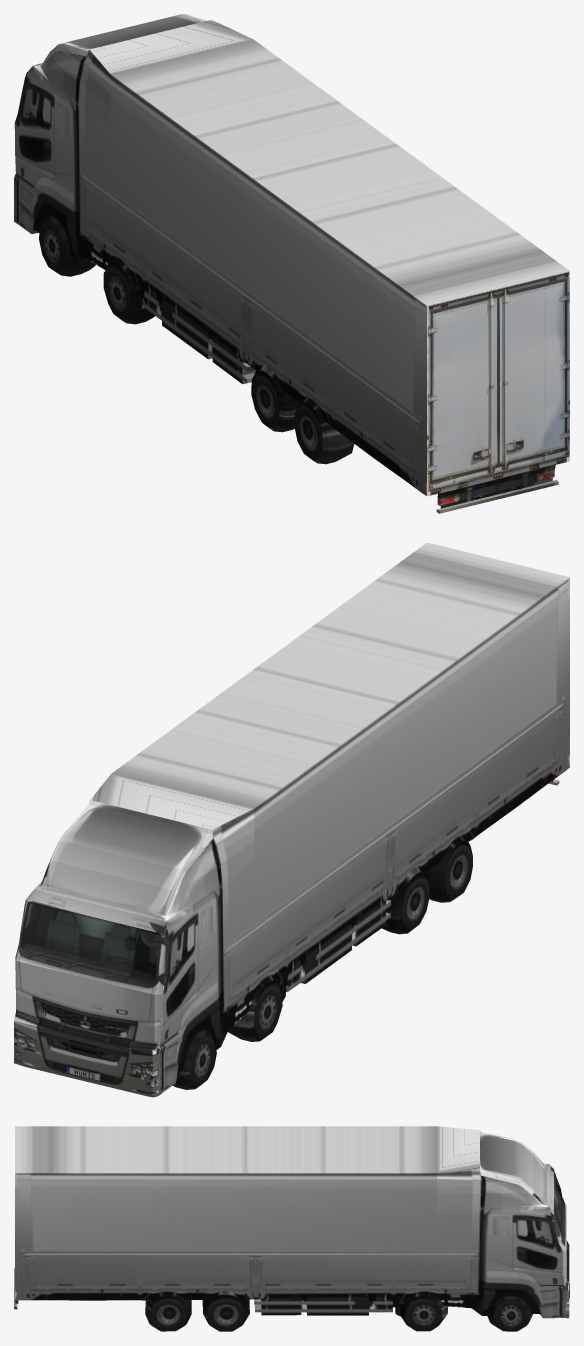
File: camion.fbx
3 views of the same model, one above another, from view 1: azimuth 30°, elevation 25°; view 2: azimuth 150°, elevation 25°; view 3: azimuth 270°, elevation 25° (orthographic). The views are drawn at different scales.
Parts seen in each view (by area): view 1: Camion; view 2: Camion; view 3: Camion.
Part boxes in pixels (x1=…): Camion: x1=14, y1=14, x2=569, y2=513; Camion: x1=14, y1=542, x2=569, y2=1097; Camion: x1=14, y1=1126, x2=569, y2=1331.
Bounding box in the file's own units: 145 × 221 × 693.
12 materials, 12 textured.
